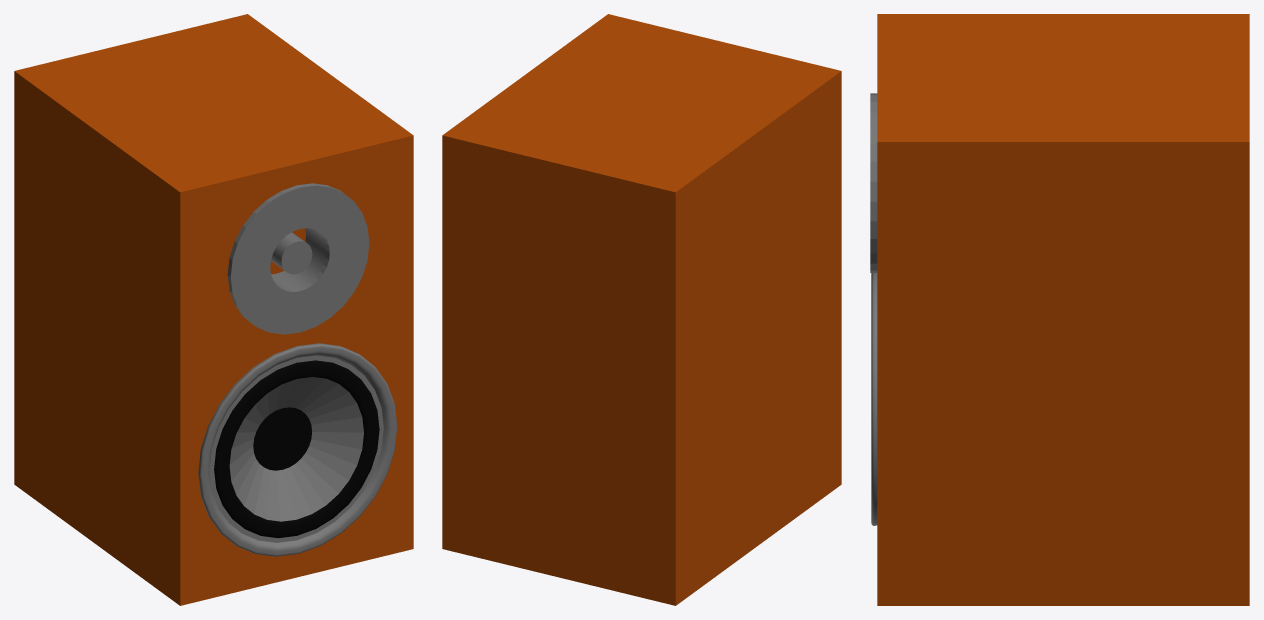
Rendered from 스피커_주2.FBX.
3 renders of one model, left to right at view 1: azimuth 30°, elevation 25°; view 2: azimuth 150°, elevation 25°; view 3: azimuth 270°, elevation 25°, orthographic. The views are drawn at different scales.
Parts seen in each view (by area): view 1: Box396, Circle086, Circle087; view 2: Box396; view 3: Box396, Circle086, Circle087.
Boxes of the visible parts, x1,y1,x2,y2 form: Box396: [14, 14, 413, 605]; Circle086: [198, 343, 397, 556]; Circle087: [227, 183, 369, 334]; Box396: [442, 14, 841, 605]; Box396: [877, 14, 1249, 605]; Circle086: [871, 273, 877, 525]; Circle087: [870, 93, 877, 272].
Bounding box in the file's own units: 179 × 304 × 225.
